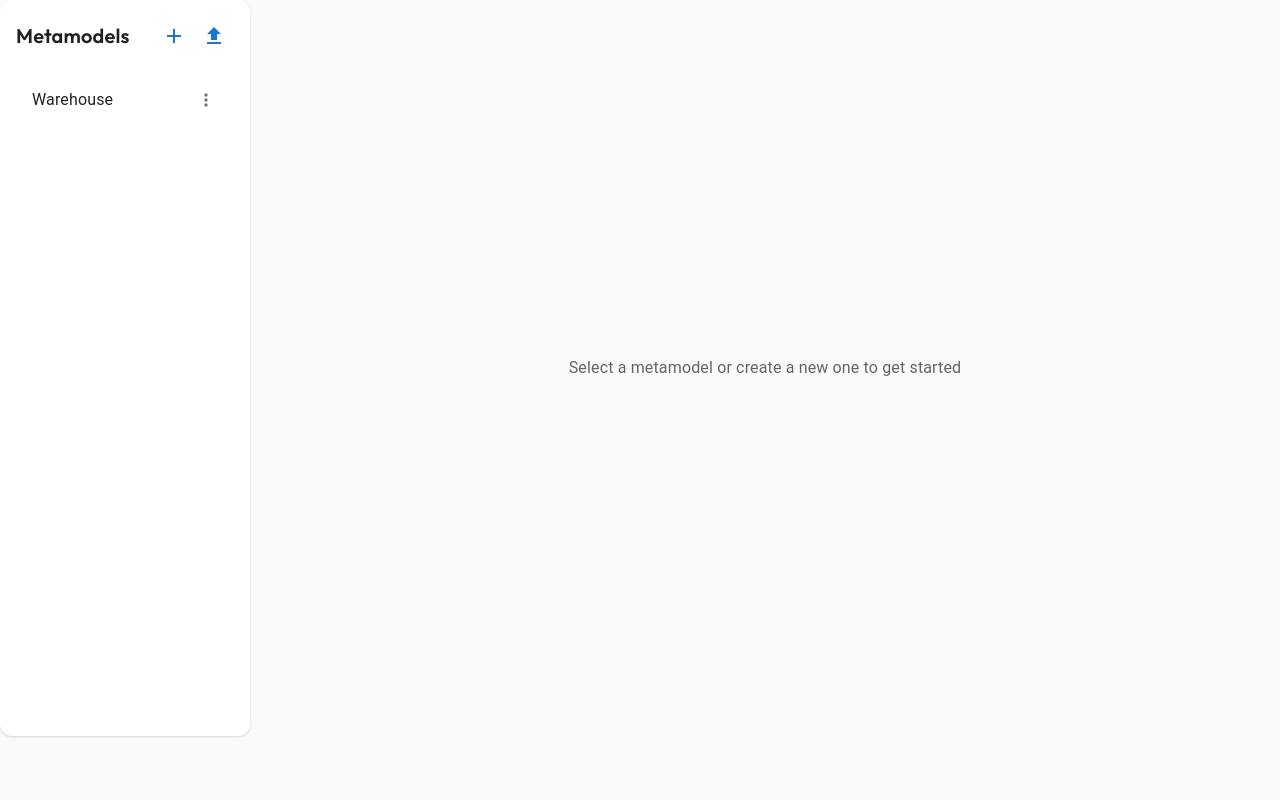
Test: MetamodelManager delete › shows the server reason and keeps the row when the delete is refused
The width and height of the screenshot is (1280, 800).
Click the button named "Actions for Warehouse": (206, 100) 191,85 -> 221,115
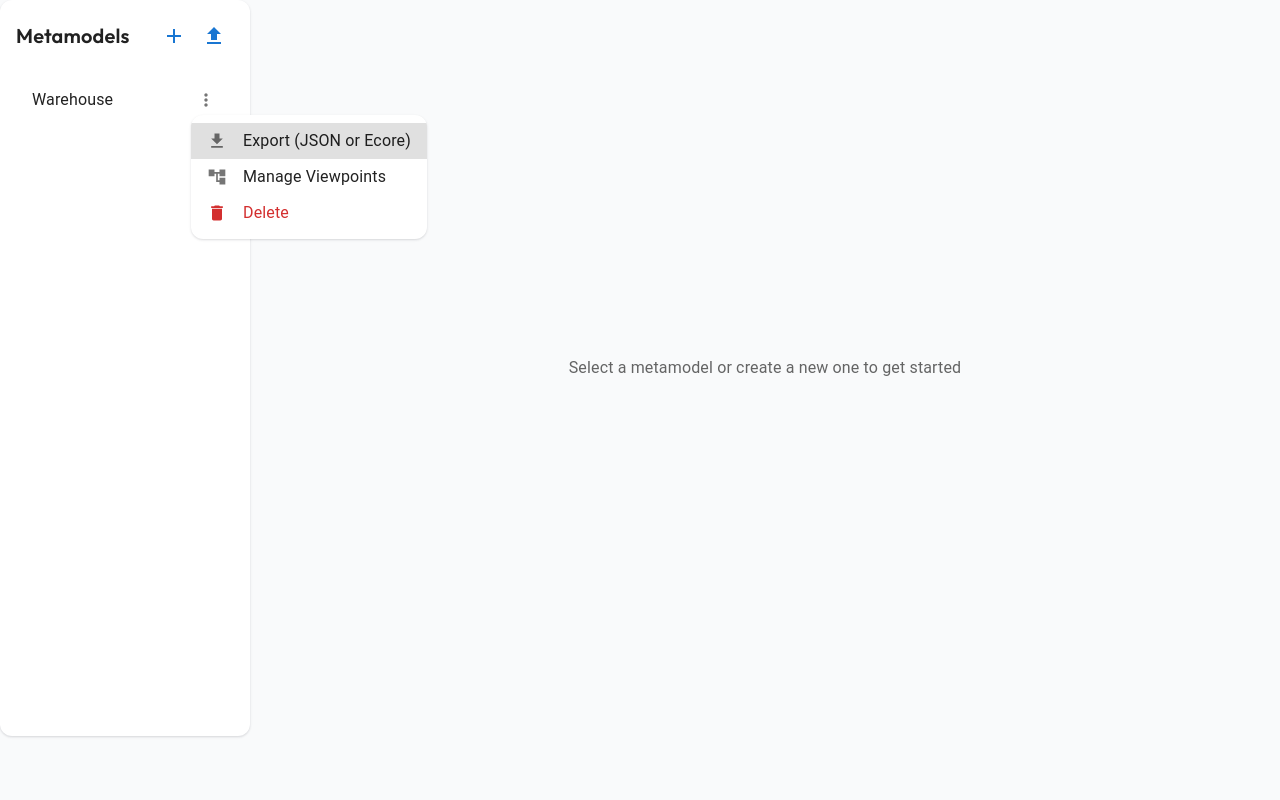
Click the menu item "Delete": (248, 213) 207,203 -> 289,223
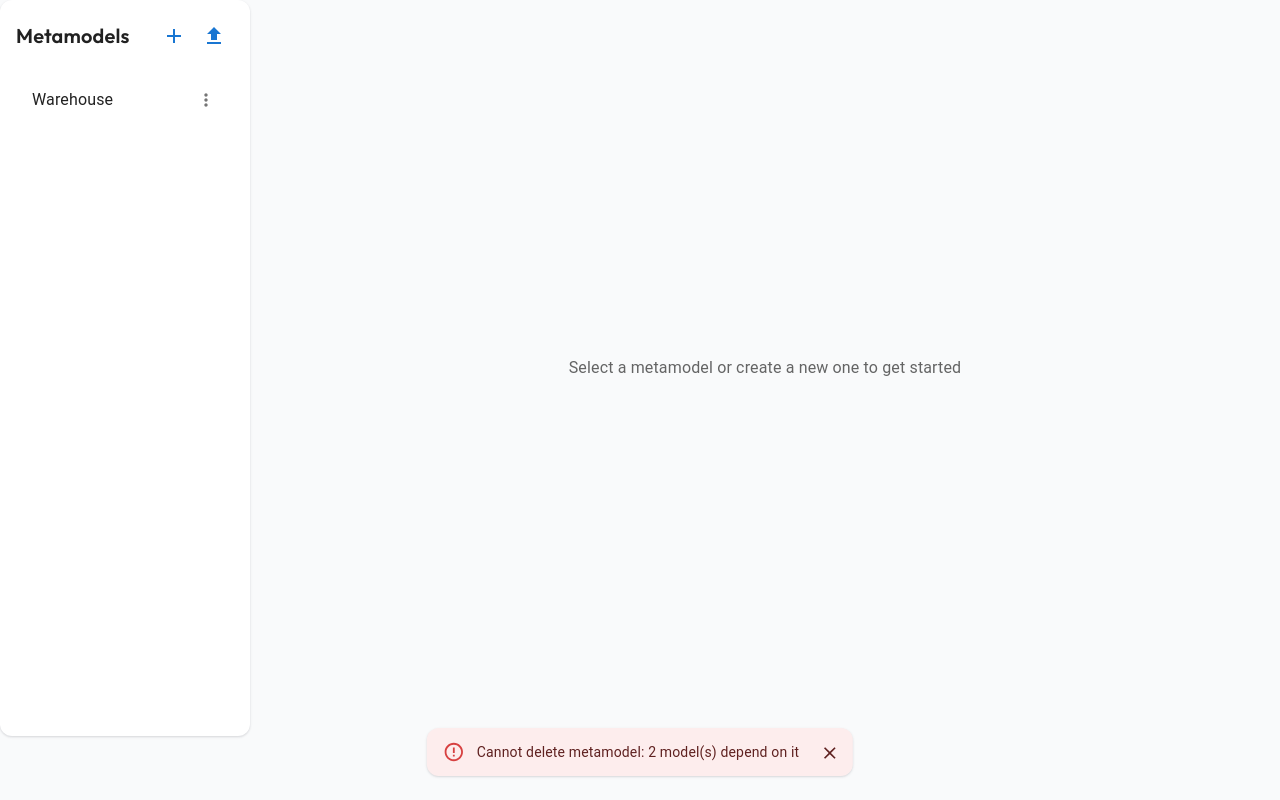
Expected: the text "Warehouse" is shown, 32,90 -> 113,109
Now the text "Cannot delete metamodel: 2 model(s) depend on it" is shown, box 477,744 -> 799,760
